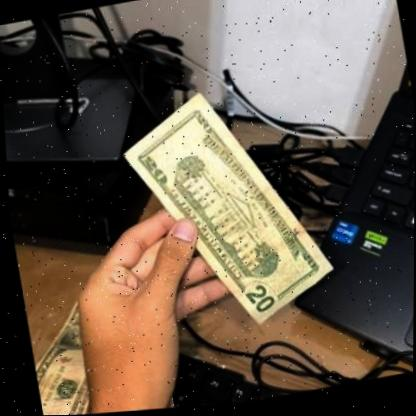dollar_back: (109, 73, 340, 348)
